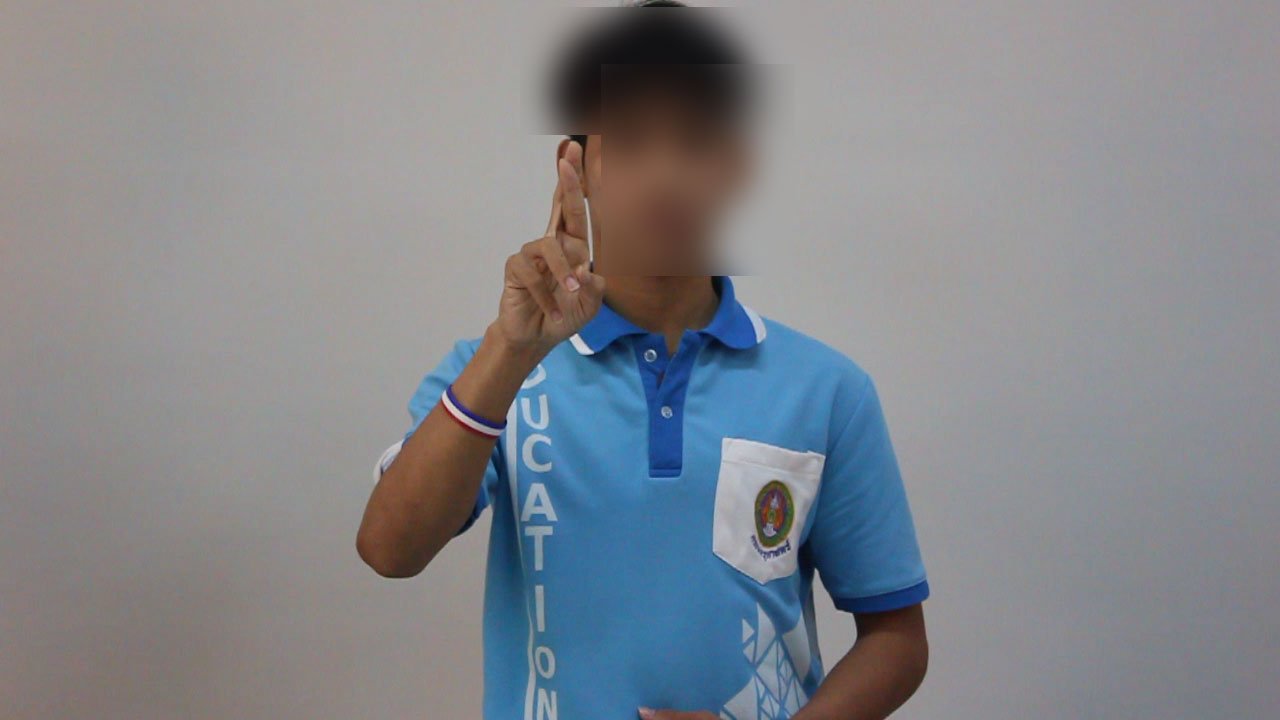rao: (463, 133, 609, 348)
